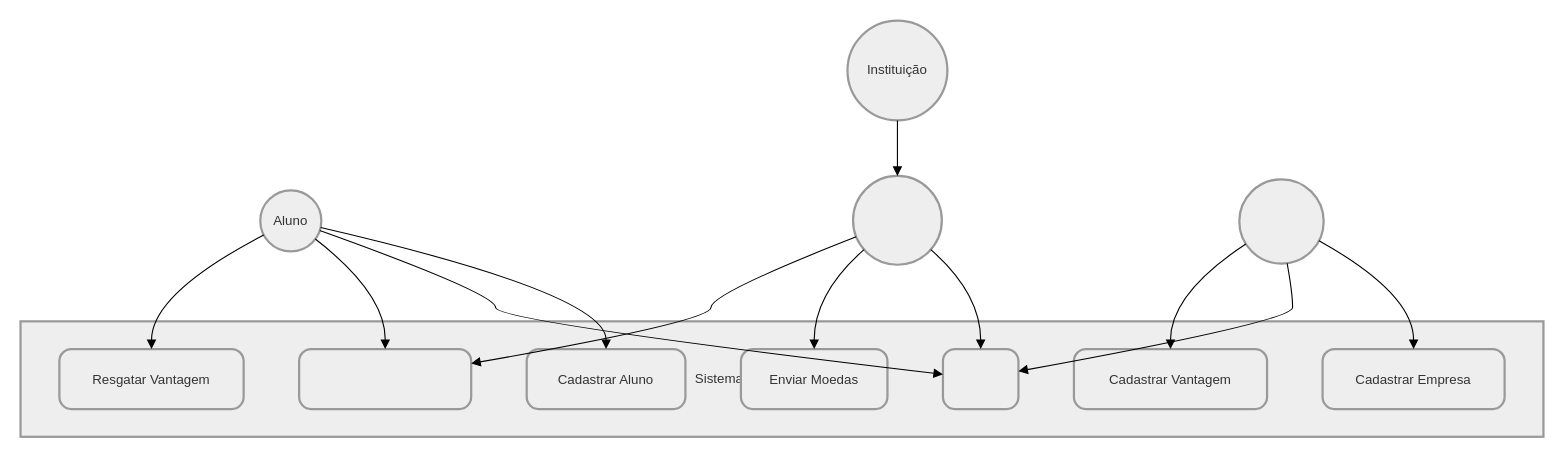
This 1563x456 diagram has some shape labels left out. Here are the shapes that lost their labels. From the top down, the centre of each, then its label:
the point at 896,219: Professor
the point at 1281,221: Empresa
the point at 384,378: Consultar Extrato
the point at 980,378: Login
